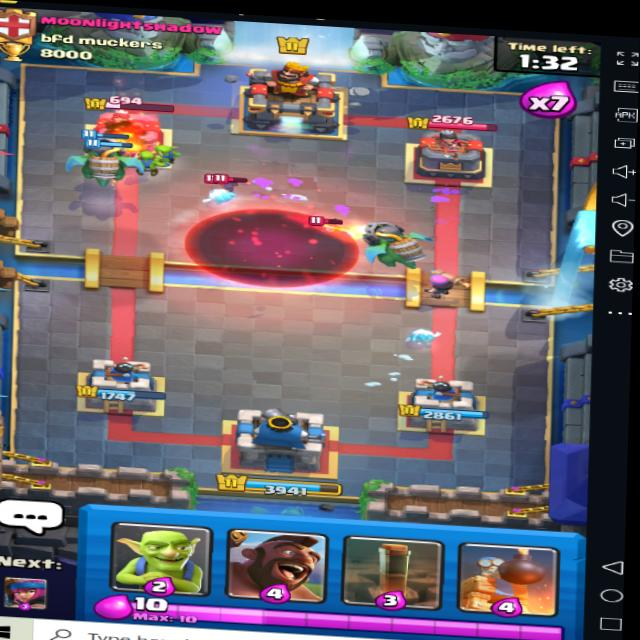ice-spirit: (199, 177, 242, 214)
void: (187, 208, 361, 293)
